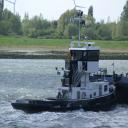tugboat: (12, 41, 120, 117)
